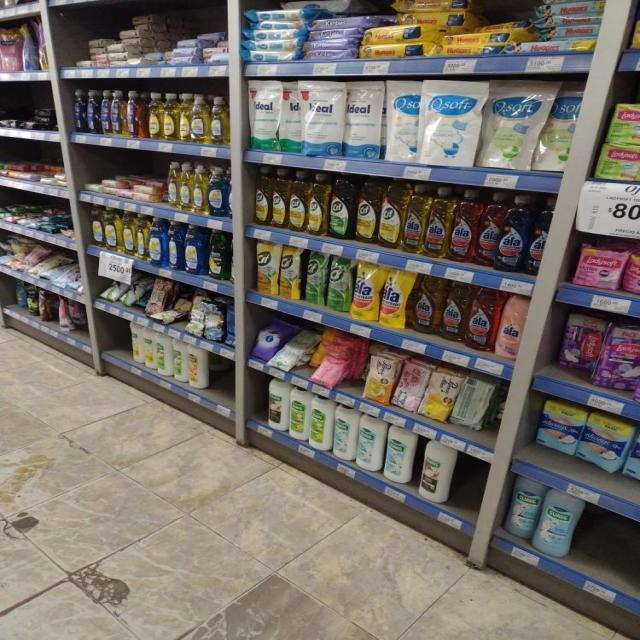ala_conc_amarillo: (412, 273, 442, 334), (426, 186, 450, 258), (404, 184, 426, 254), (442, 282, 467, 342)
ala_conc_azul: (527, 196, 563, 276), (498, 193, 526, 272)
ala_conc_rojo: (450, 188, 477, 263), (467, 287, 496, 351), (477, 191, 498, 268)
ala_sachet_amarillo: (380, 267, 410, 329), (352, 262, 379, 322)
ala_ultra_rosa: (497, 294, 528, 361)
cif_conc_bot_amarilla: (379, 181, 402, 250), (356, 178, 378, 244), (308, 172, 329, 236), (288, 170, 308, 233), (254, 166, 271, 227), (272, 167, 288, 229)
cif_conc_botella_verde: (330, 174, 354, 240)
cif_conc_sachet_amarillo: (255, 240, 279, 296), (280, 245, 302, 300)
cif_conc_sachet_verde: (328, 255, 350, 312), (305, 251, 326, 306)
esencial: (147, 92, 162, 140)
magistral_con_amarillo: (210, 95, 228, 145), (191, 94, 209, 144), (192, 164, 207, 214), (165, 161, 179, 208), (179, 162, 192, 211), (178, 92, 190, 142)
magistral_con_azul: (184, 224, 205, 275), (208, 166, 227, 216)
